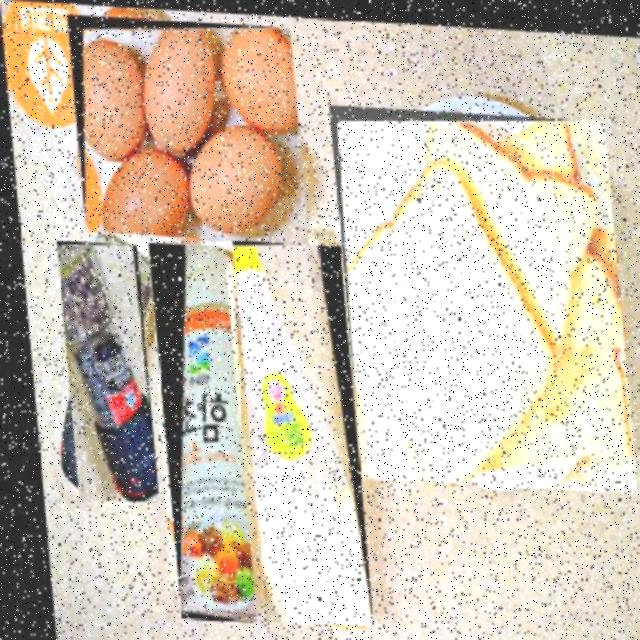Bread: (326, 99, 629, 487)
Egg: (64, 12, 304, 242)
Mayonnaise: (227, 236, 362, 624)
